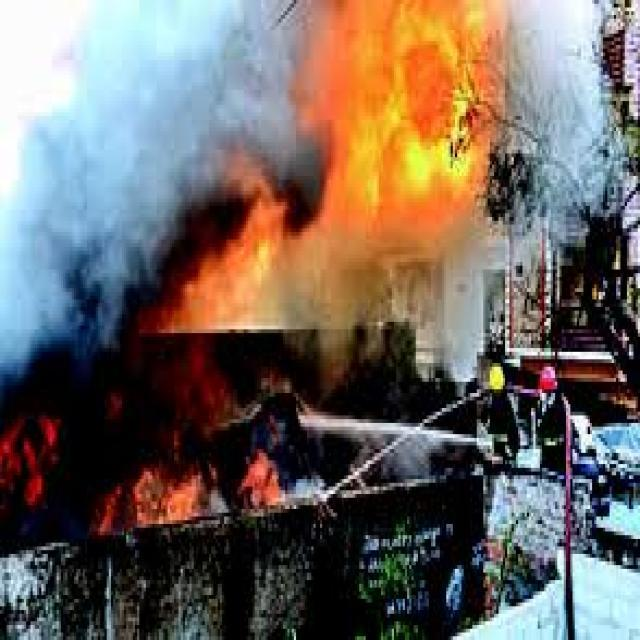Fire: (309, 0, 499, 225), (4, 414, 280, 514), (174, 229, 412, 332)
Smoke: (44, 25, 340, 256), (5, 242, 140, 414)
